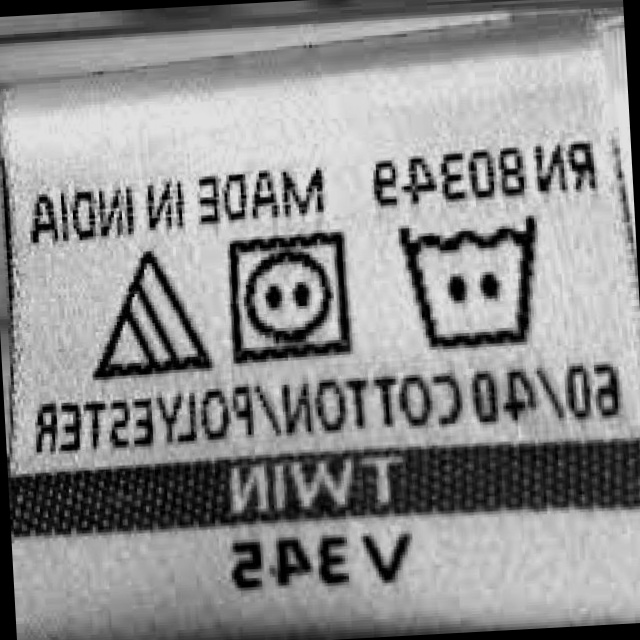40C: (389, 206, 555, 359)
non_chlorine_bleach: (82, 246, 220, 387)
tumble_dry_medium: (218, 225, 361, 366)
